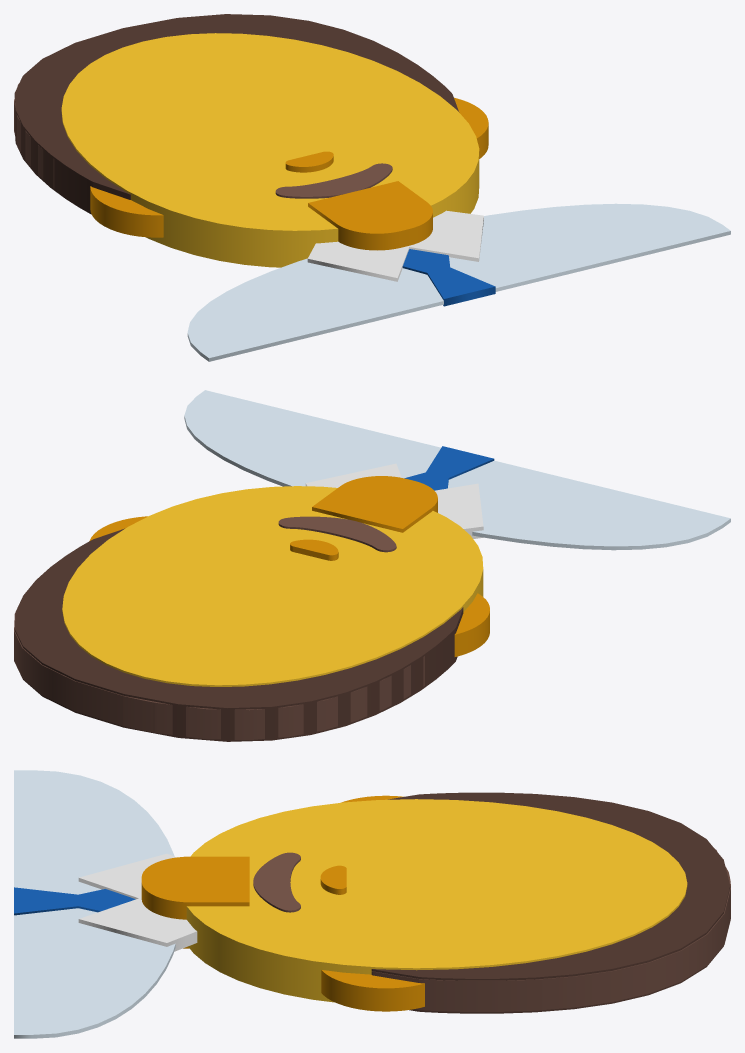
The model's file is emoji_u1f468_200d_1f4bc.glb.
The picture shows the model from 3 angles, top to bottom: view 1: azimuth 30°, elevation 25°; view 2: azimuth 150°, elevation 25°; view 3: azimuth 270°, elevation 25°; orthographic projection. The views are drawn at different scales.
Parts seen in each view (by area): view 1: emoji_u1f468_200d_1f4bc; view 2: emoji_u1f468_200d_1f4bc; view 3: emoji_u1f468_200d_1f4bc.
Boxes of the visible parts, x1,y1,x2,y2 form: emoji_u1f468_200d_1f4bc: (14,14,730,361); emoji_u1f468_200d_1f4bc: (14,390,730,741); emoji_u1f468_200d_1f4bc: (14,770,730,1038).
Size of the model in its own units: 0.0294 by 0.0026 by 0.0336.
